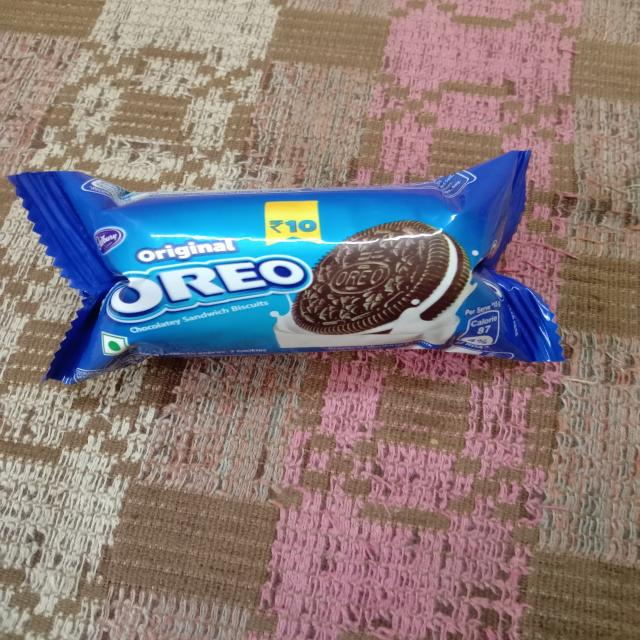oreo biscuit: (12, 165, 574, 378)
